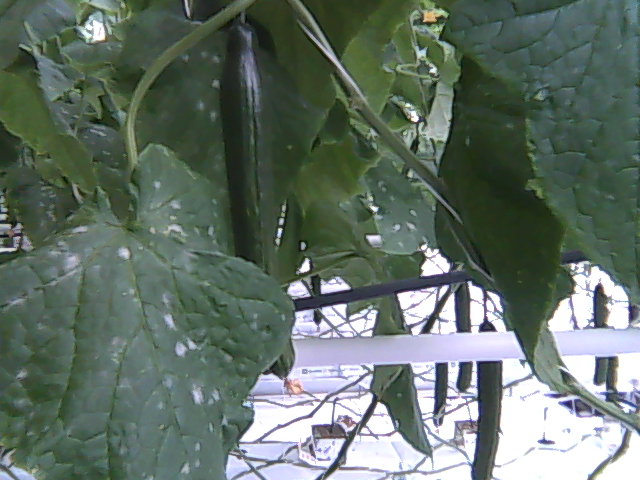concombre: (219, 11, 308, 397)
